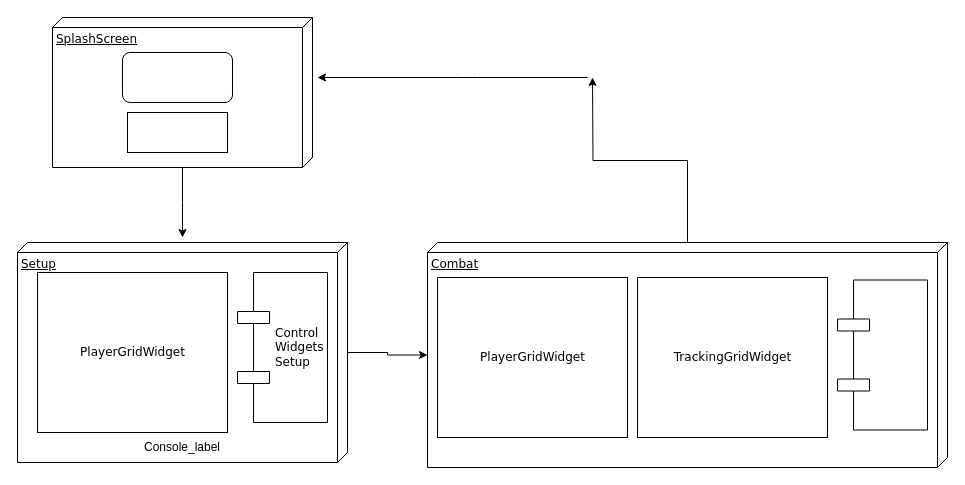
This 965x485 diagram has some shape labels left out. The shapes that lost their labels are listed below. From the top down, each one's centre as x and y in pixels, then its label:
(177,77): Img
(177,132): Buttons
(882,354): Control Widgets Combat
